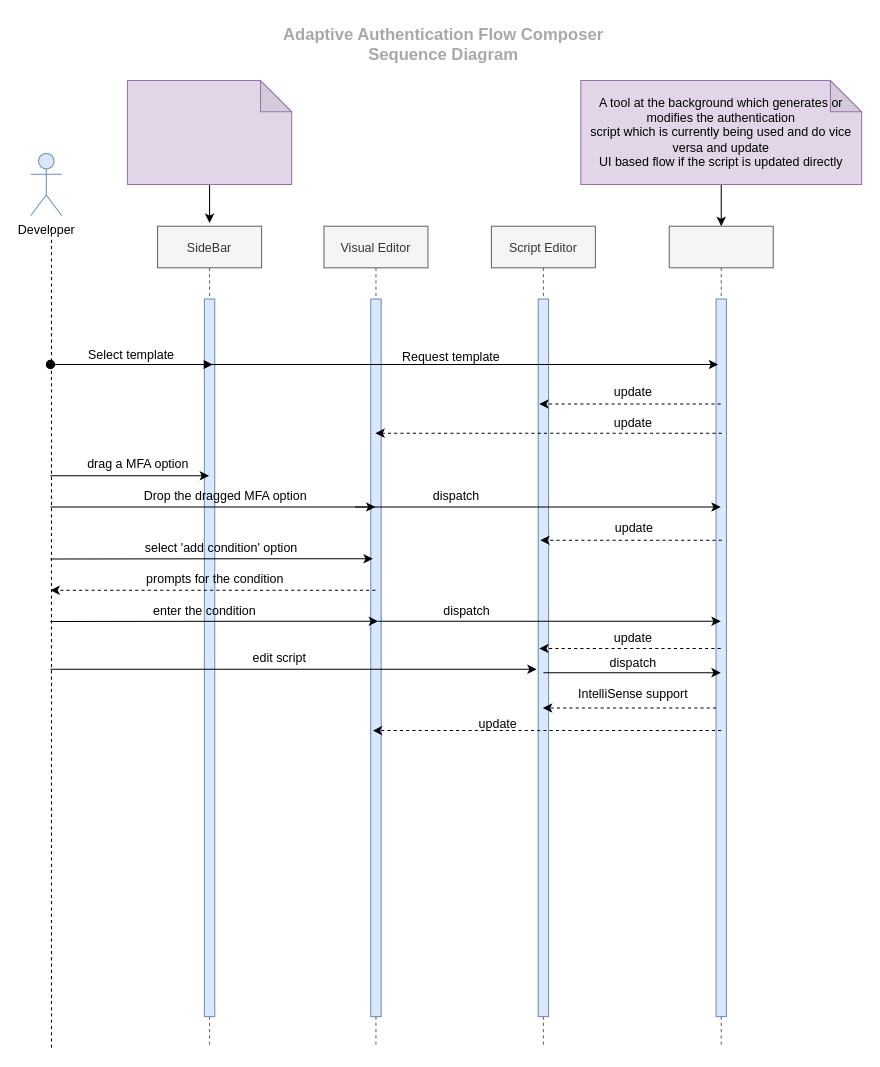
The diagram is 880 pixels wide and 1067 high, and some of its shapes have lost their labels. The box of each missing label's shape, as (x1, y1, x2, y2) in pixels:
Background Tool: (668, 225, 773, 1048)
Side Bar contains templates list, MFA options, Social Login TYpes: (126, 80, 292, 185)
